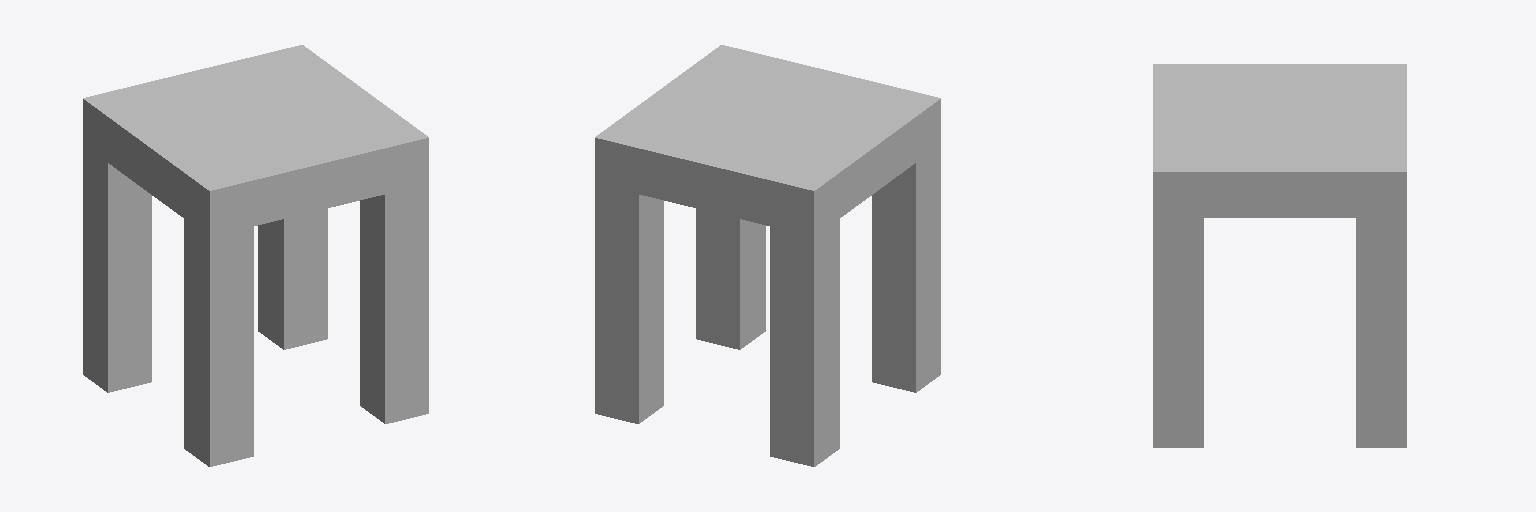
The model's file is Chair.obj.
3 renders of one model, left to right at view 1: azimuth 30°, elevation 25°; view 2: azimuth 150°, elevation 25°; view 3: azimuth 270°, elevation 25°, orthographic.
Visible parts, largest first — view 1: object 1; view 2: object 1; view 3: object 1.
Boxes of the visible parts, x1=… form: object 1: x1=83, y1=45, x2=428, y2=466; object 1: x1=595, y1=45, x2=940, y2=466; object 1: x1=1153, y1=64, x2=1406, y2=447.
Bounding box in the file's own units: 0.5 × 0.6 × 0.5.